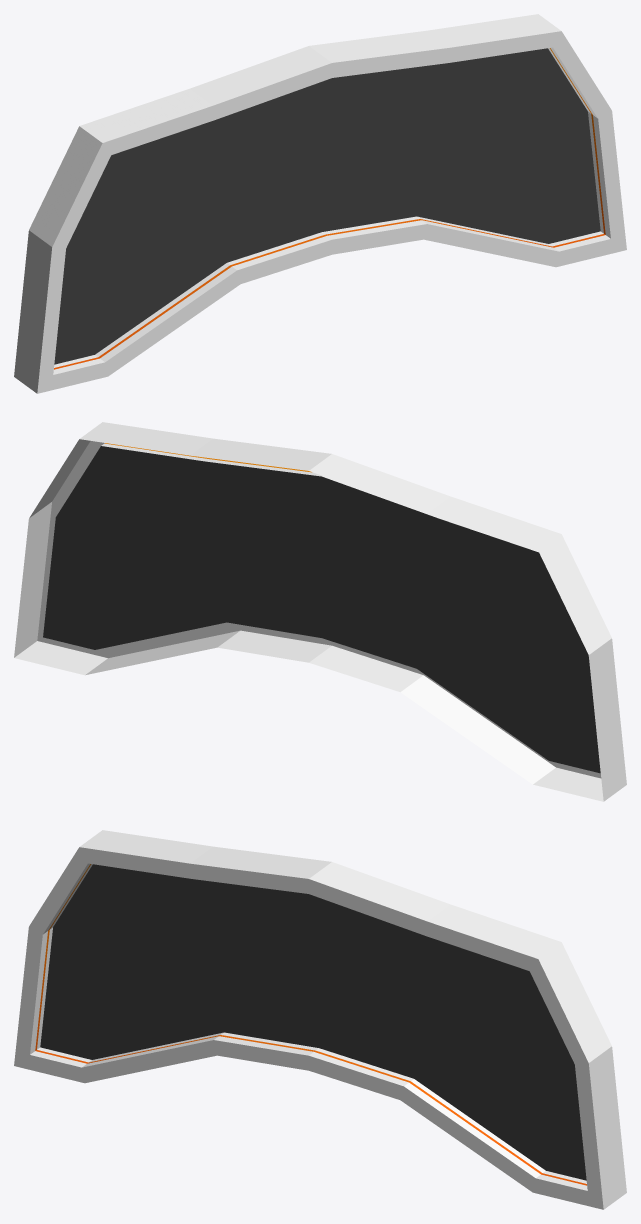
Rendered from Environment_props.fbx.
3 views of the same model, one above another, from view 1: azimuth 30°, elevation 25°; view 2: azimuth 150°, elevation 25°; view 3: azimuth 330°, elevation 25° (orthographic).
Visible parts, largest first — view 1: Door Board; view 2: Door Board; view 3: Door Board.
Part boxes in pixels (bbox=[...]): Door Board: bbox=[14, 14, 626, 393]; Door Board: bbox=[14, 422, 626, 801]; Door Board: bbox=[14, 830, 626, 1209].
Bounding box in the file's own units: 512 × 215 × 35.07.
